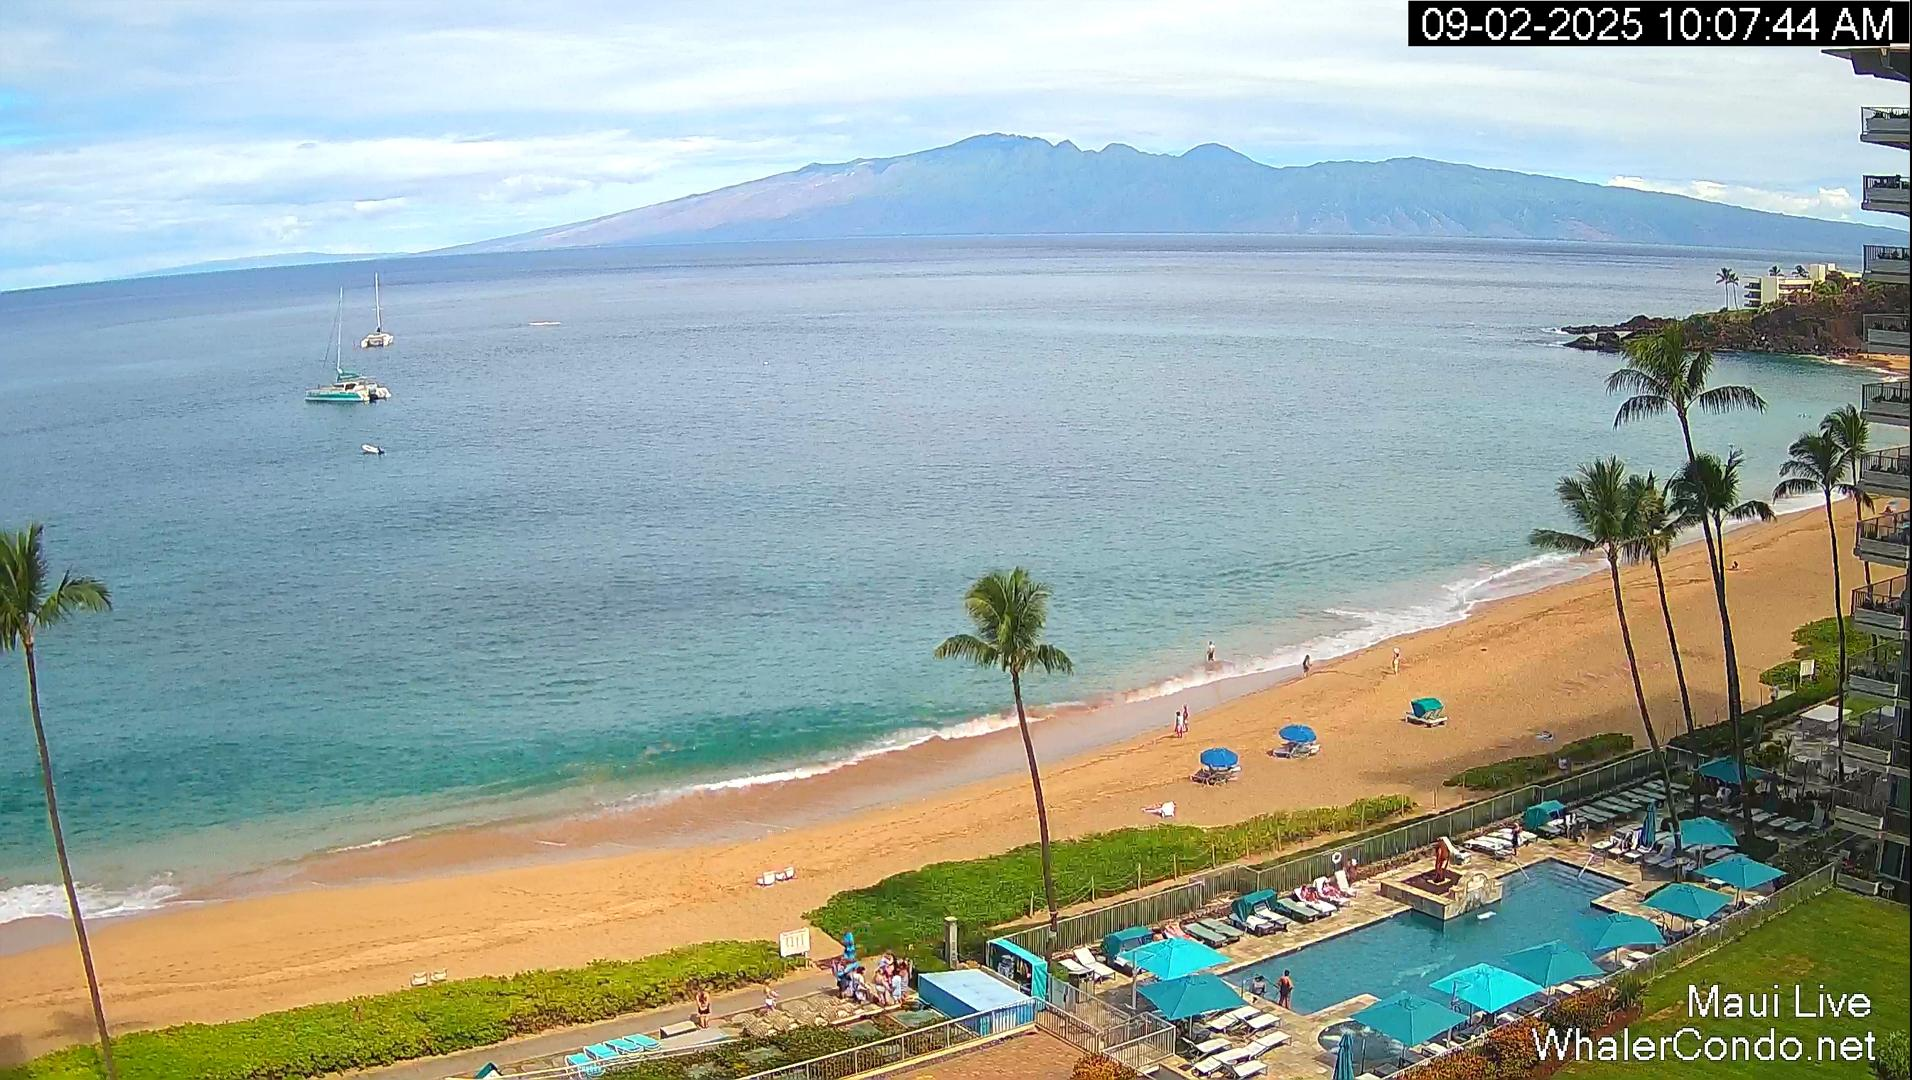boat: (304, 286, 392, 404), (360, 272, 394, 348), (361, 441, 387, 458), (528, 320, 562, 326)
person: (1276, 970, 1294, 1010), (874, 968, 891, 1005), (852, 966, 869, 1002), (696, 989, 711, 1029), (836, 970, 852, 1000), (844, 928, 858, 959), (1250, 974, 1267, 998), (765, 979, 779, 1005), (1513, 817, 1522, 857), (892, 971, 902, 1004), (1325, 879, 1340, 901), (1298, 885, 1316, 902), (1174, 711, 1184, 739), (1557, 755, 1568, 778), (1392, 648, 1401, 674), (1182, 704, 1190, 732), (1303, 654, 1312, 678), (1206, 640, 1216, 661), (1723, 559, 1738, 573), (1168, 923, 1183, 935)
